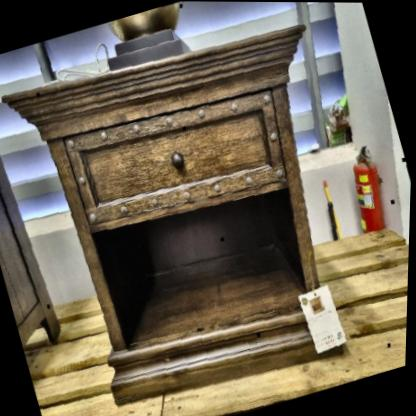Nightstand: (12, 13, 396, 416)
